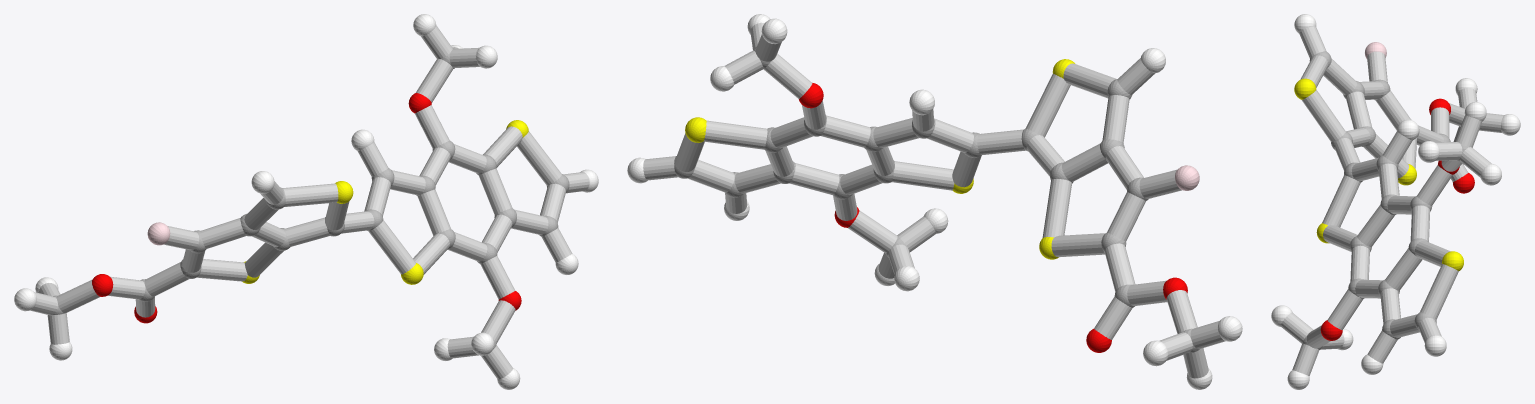
The model's file is Dimethoxy_Benzodithiophene_Phi_15_Theta_280_Methylcarbonyl_3_Fluoro_Thienothiophene.glb.
3 renders of one model, left to right at view 1: azimuth 30°, elevation 25°; view 2: azimuth 150°, elevation 25°; view 3: azimuth 270°, elevation 25°, orthographic. The views are drawn at different scales.
Visible parts, largest first — view 1: grp15205, grp8689, grp1, grp13395, grp7241; view 2: grp15205, grp8689, grp1, grp13395, grp7241, grp14843; view 3: grp15205, grp8689, grp1, grp7241, grp13395.
Boxes of the visible parts, <box> form: grp15205: <box>30,25,589,379</box>; grp8689: <box>14,14,598,389</box>; grp1: <box>53,48,569,355</box>; grp13395: <box>92,93,521,323</box>; grp7241: <box>242,120,528,284</box>; grp15205: <box>643,22,1225,378</box>; grp8689: <box>627,14,1242,389</box>; grp1: <box>674,46,1199,352</box>; grp13395: <box>799,83,1187,352</box>; grp7241: <box>685,59,1075,259</box>; grp14843: <box>1175,165,1199,190</box>; grp15205: <box>1281,26,1503,376</box>; grp8689: <box>1271,14,1520,389</box>; grp1: <box>1302,51,1469,349</box>; grp7241: <box>1294,78,1463,270</box>; grp13395: <box>1320,98,1474,340</box>.
Bounding box in the file's own units: 16.96 × 8.71 × 6.78.
